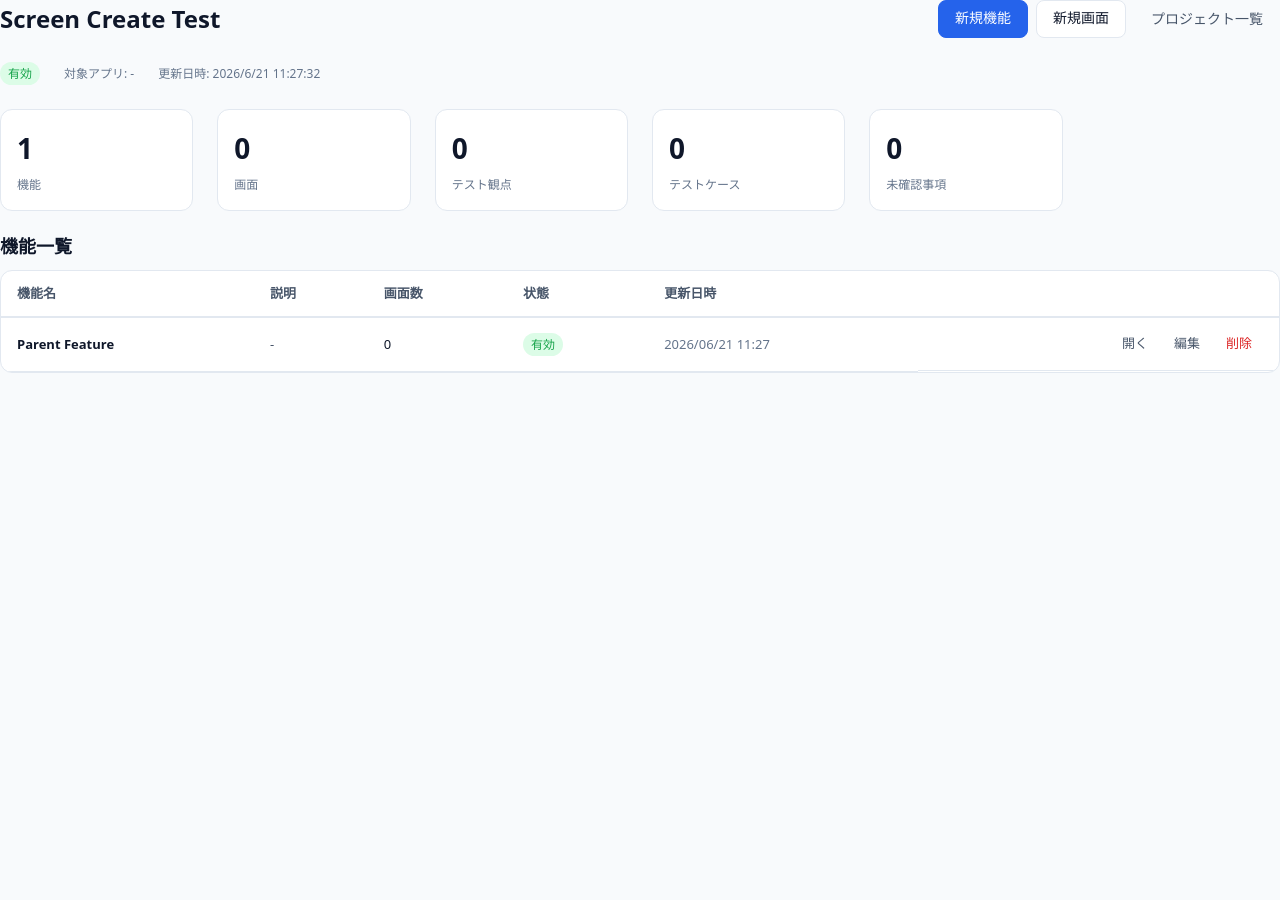
Test: ProjectDashboardPage › creates a screen via dialog
The width and height of the screenshot is (1280, 900).
expect the heading "Screen Create Test" is shown: met, box top-left (0, 3), bottom-right (220, 34)
Click the button "新規画面". click: (1081, 19)
box: top-left (1036, 0), bottom-right (1126, 38)
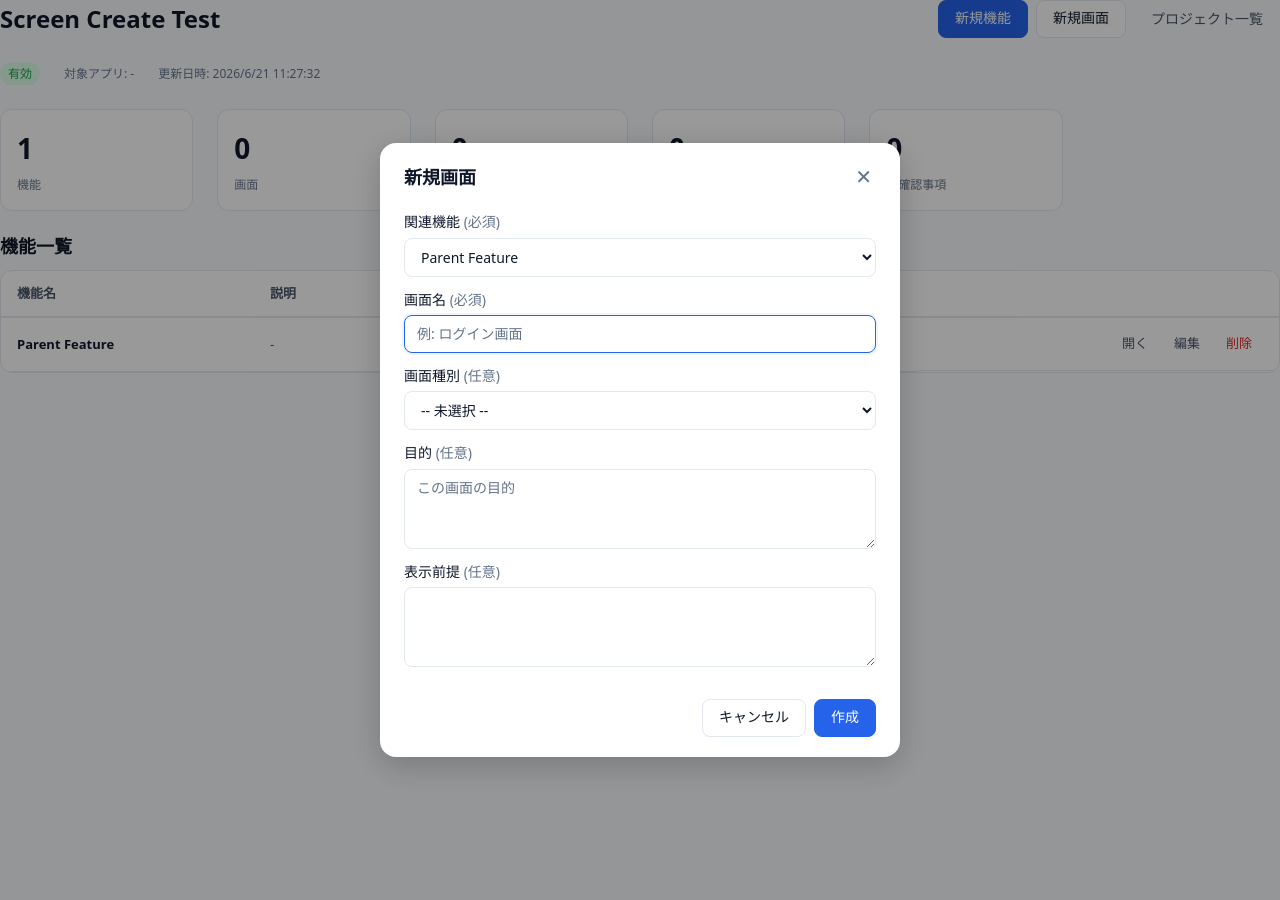
expect the heading "新規画面" is shown: met, box top-left (404, 166), bottom-right (476, 189)
Type "New Screen" into the field with placeholder "例: ログイン画面". click: (640, 334)
box: top-left (404, 315), bottom-right (876, 353)
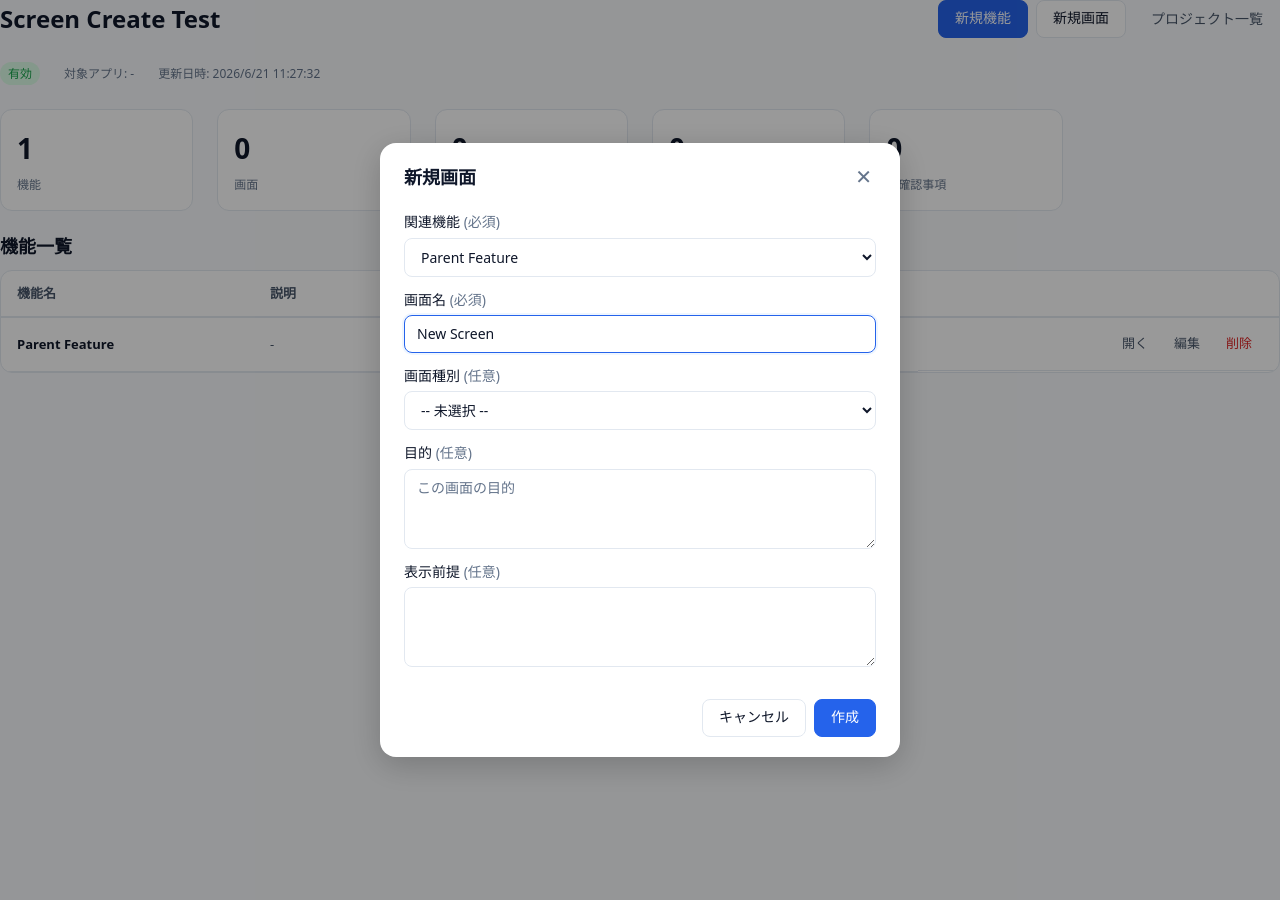
Click the button "作成". click: (845, 718)
box: top-left (814, 699), bottom-right (876, 737)
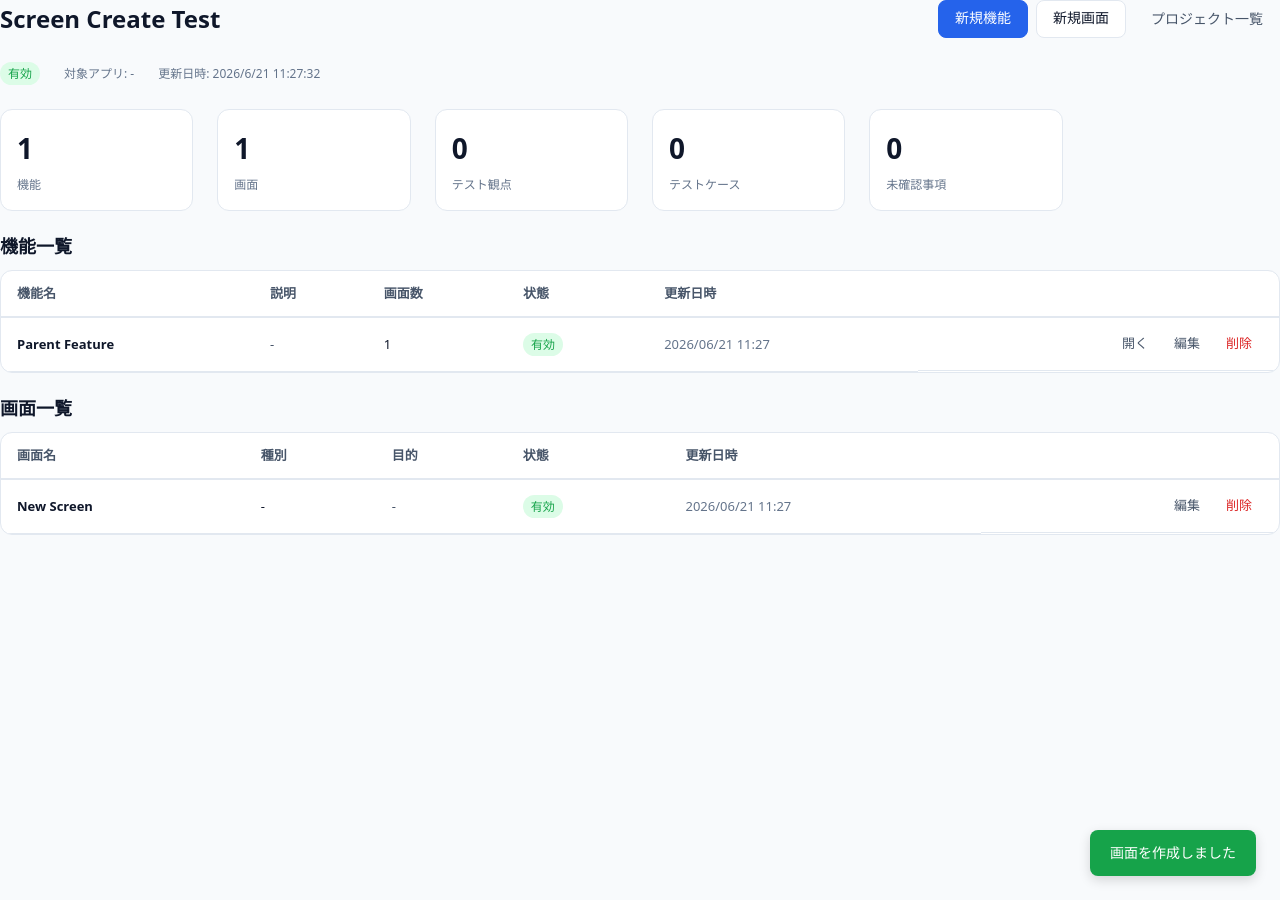
expect the text "New Screen" is shown: met, box top-left (1, 479), bottom-right (245, 533)
